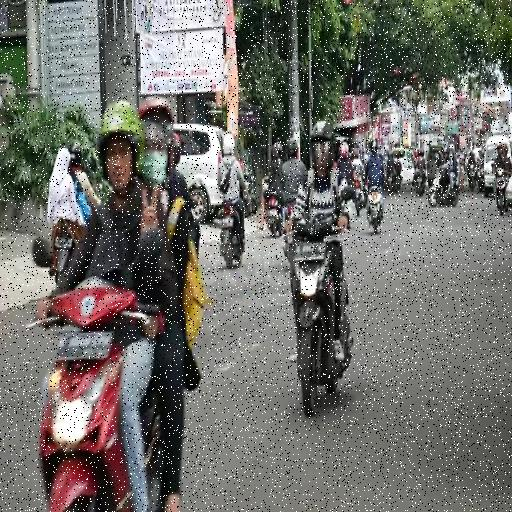Helmet: (138, 94, 172, 195), (102, 103, 134, 190), (311, 125, 334, 173), (218, 131, 242, 158), (285, 138, 303, 158), (338, 140, 350, 160), (272, 141, 283, 160), (495, 142, 506, 160), (442, 146, 453, 161), (369, 139, 379, 155)
Motor: (38, 282, 166, 510), (288, 221, 355, 407), (213, 204, 251, 266), (48, 221, 74, 283), (428, 170, 460, 210), (367, 184, 384, 231), (492, 166, 510, 210), (261, 191, 279, 234)
